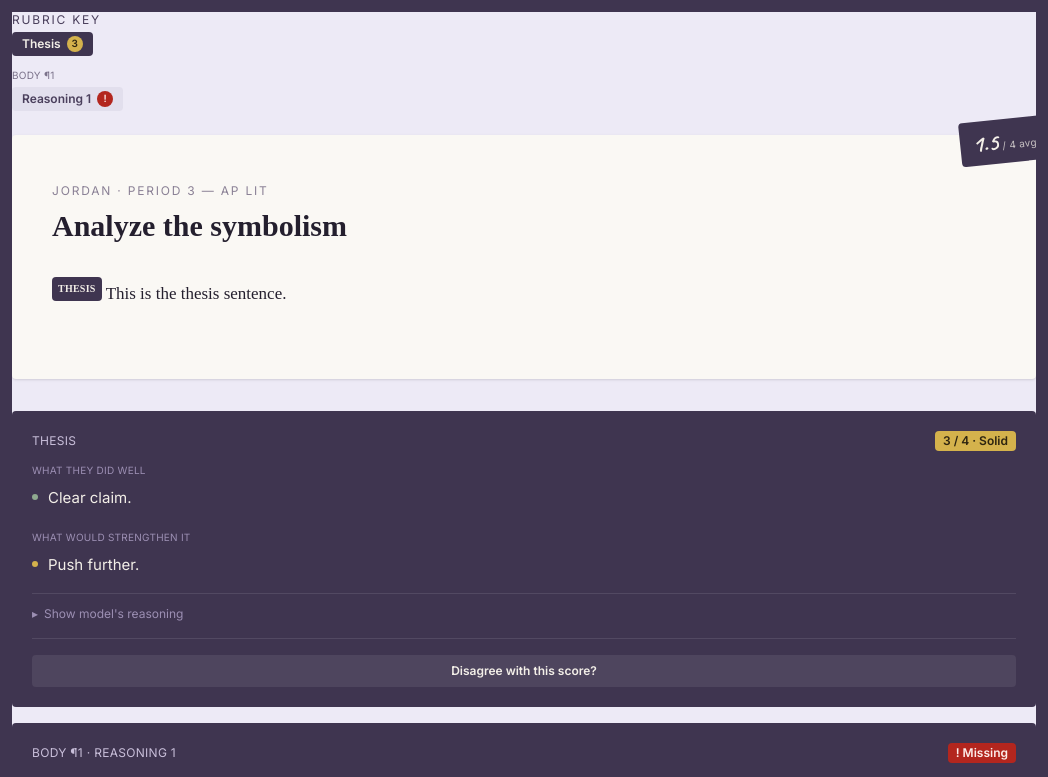
Scenario: GradedView › shows a fallback message and keeps the thread open when the dispute request fails
Click the button "Disagree with this score?" at (524, 671), box [32,655,1016,687]
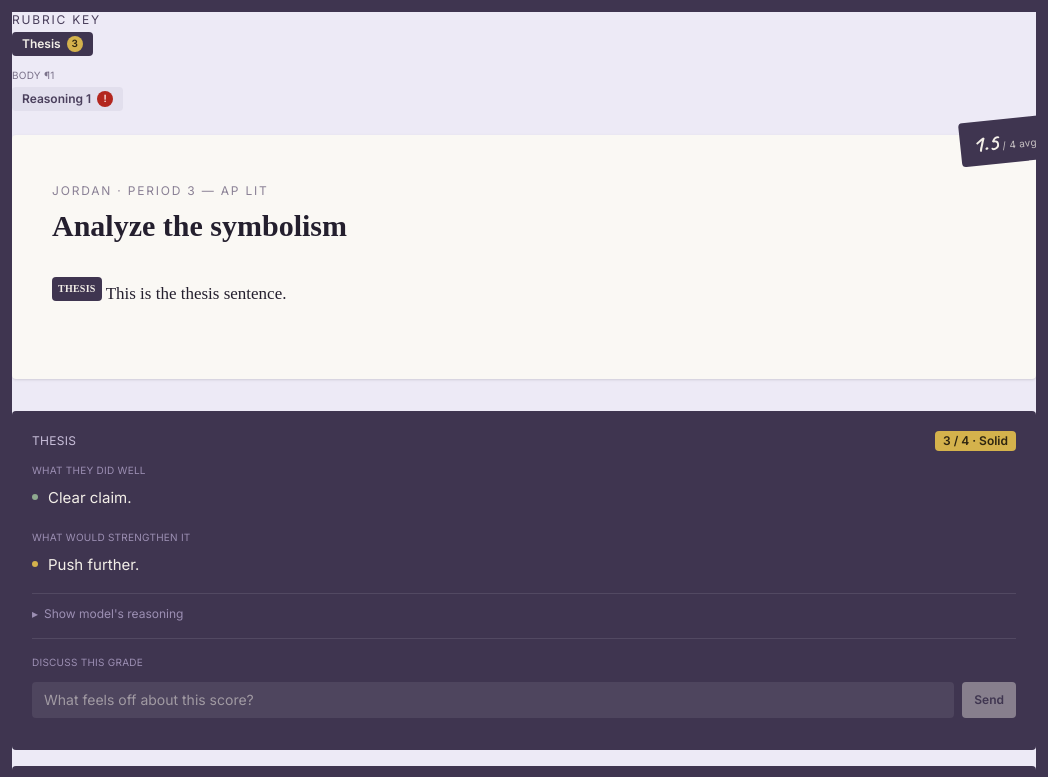
Type "Too generous." into the field with placeholder "What feels off about this score?" at (493, 700), box [32,682,954,718]
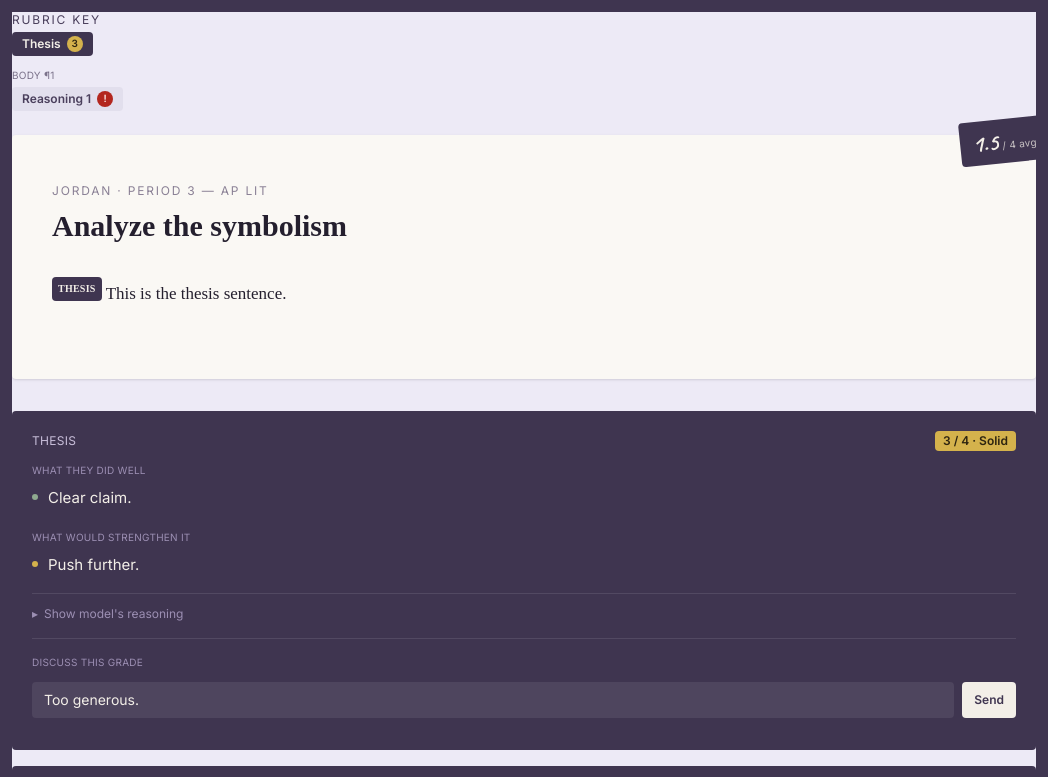
Click the button "Send" at (989, 700), box [962,682,1016,718]
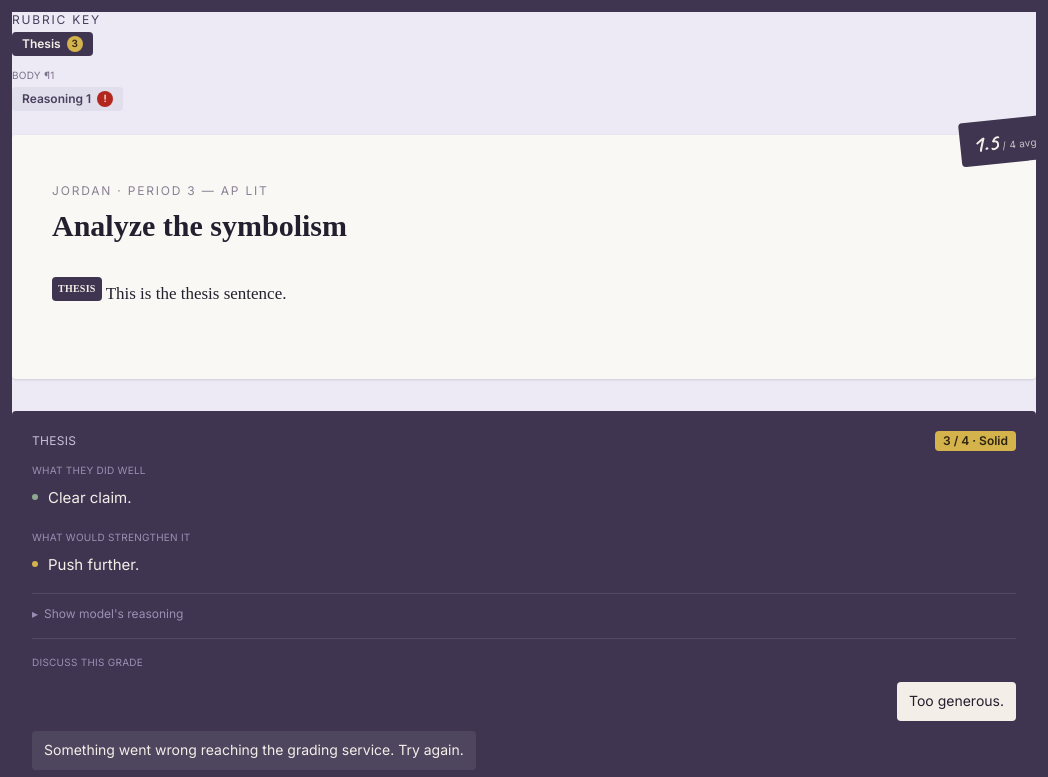
Now the text "Something went wrong reaching the grading service. Try again." is shown, box [32,731,476,770]
